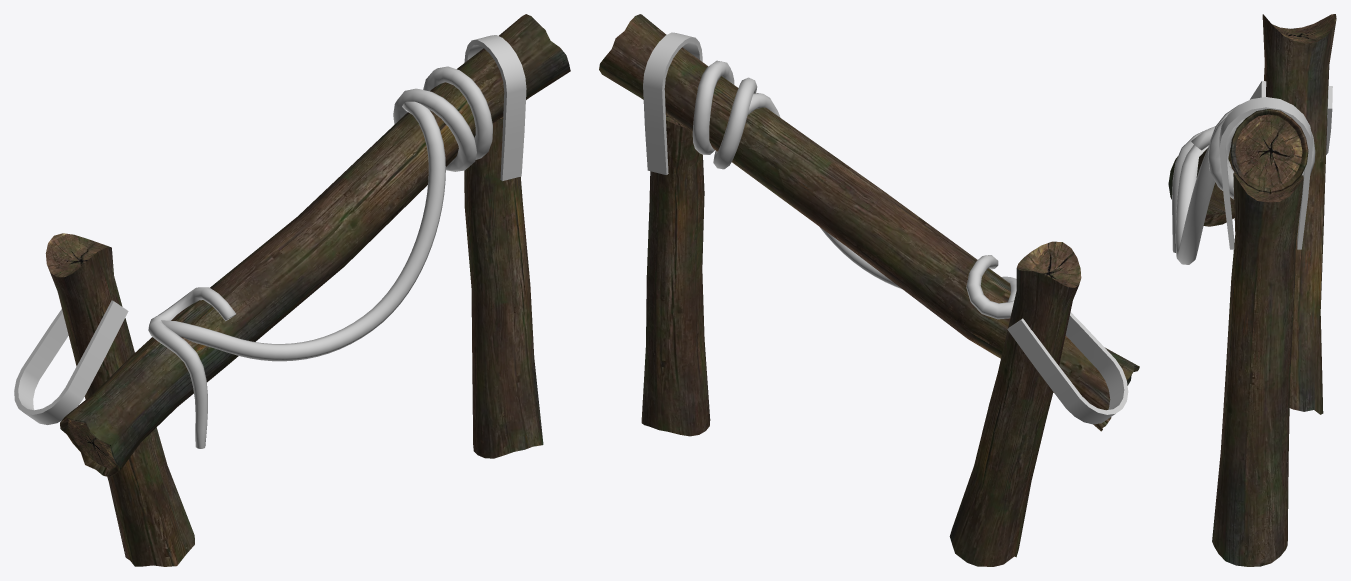
The picture shows the model from 3 angles, left to right: view 1: azimuth 30°, elevation 25°; view 2: azimuth 150°, elevation 25°; view 3: azimuth 270°, elevation 25°; orthographic projection. The views are drawn at different scales.
Visible parts, largest first — view 1: SM_Village_Hitching_Post_v2_LOD0; view 2: SM_Village_Hitching_Post_v2_LOD0; view 3: SM_Village_Hitching_Post_v2_LOD0.
Part boxes in pixels (left/top/right/bottom): SM_Village_Hitching_Post_v2_LOD0: left=14, top=14, right=570, bottom=566; SM_Village_Hitching_Post_v2_LOD0: left=599, top=14, right=1139, bottom=566; SM_Village_Hitching_Post_v2_LOD0: left=1168, top=14, right=1336, bottom=566.
Bounding box in the file's own units: 2.12 × 1.73 × 0.5214.
